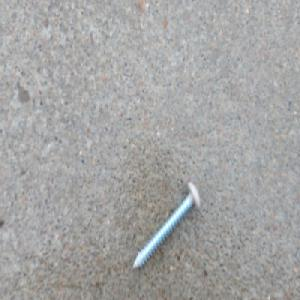Nail: (131, 180, 201, 273)
